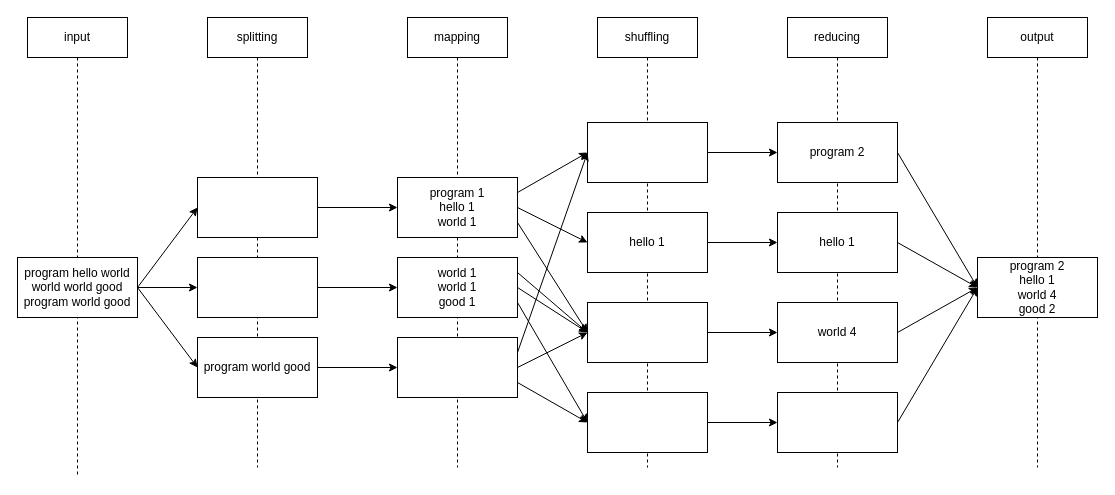
Some shapes in this 1115 by 495 pixel diagram are drawn without their labels. The centre of each missing label's shape, as x and y in pixels:
good 1 good 1: (x=647, y=422)
good 2: (x=837, y=422)
program 1 program 1: (x=647, y=152)
program 1 world 1 good 1: (x=457, y=367)
program hello world: (x=257, y=207)
world 1 world 1 world 1 world 1: (x=647, y=332)
world world good: (x=257, y=287)
